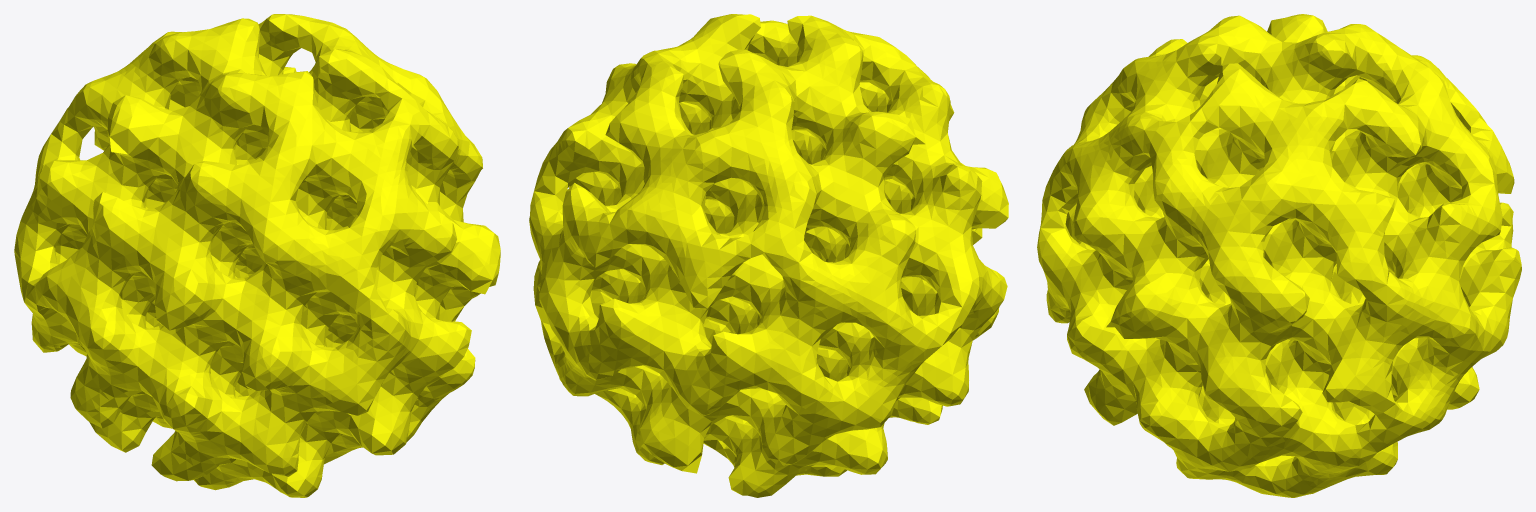
The model's file is gyroid.gltf.
3 renders of one model, left to right at view 1: azimuth 30°, elevation 25°; view 2: azimuth 150°, elevation 25°; view 3: azimuth 270°, elevation 25°, orthographic.
Visible parts, largest first — view 1: wrapper; view 2: wrapper; view 3: wrapper.
Part boxes in pixels (x1,y1,x2,y2): wrapper: [14, 14, 500, 497]; wrapper: [529, 14, 1008, 497]; wrapper: [1037, 14, 1521, 497].
Size of the model in its own units: 0.0231 by 0.0231 by 0.0231.
